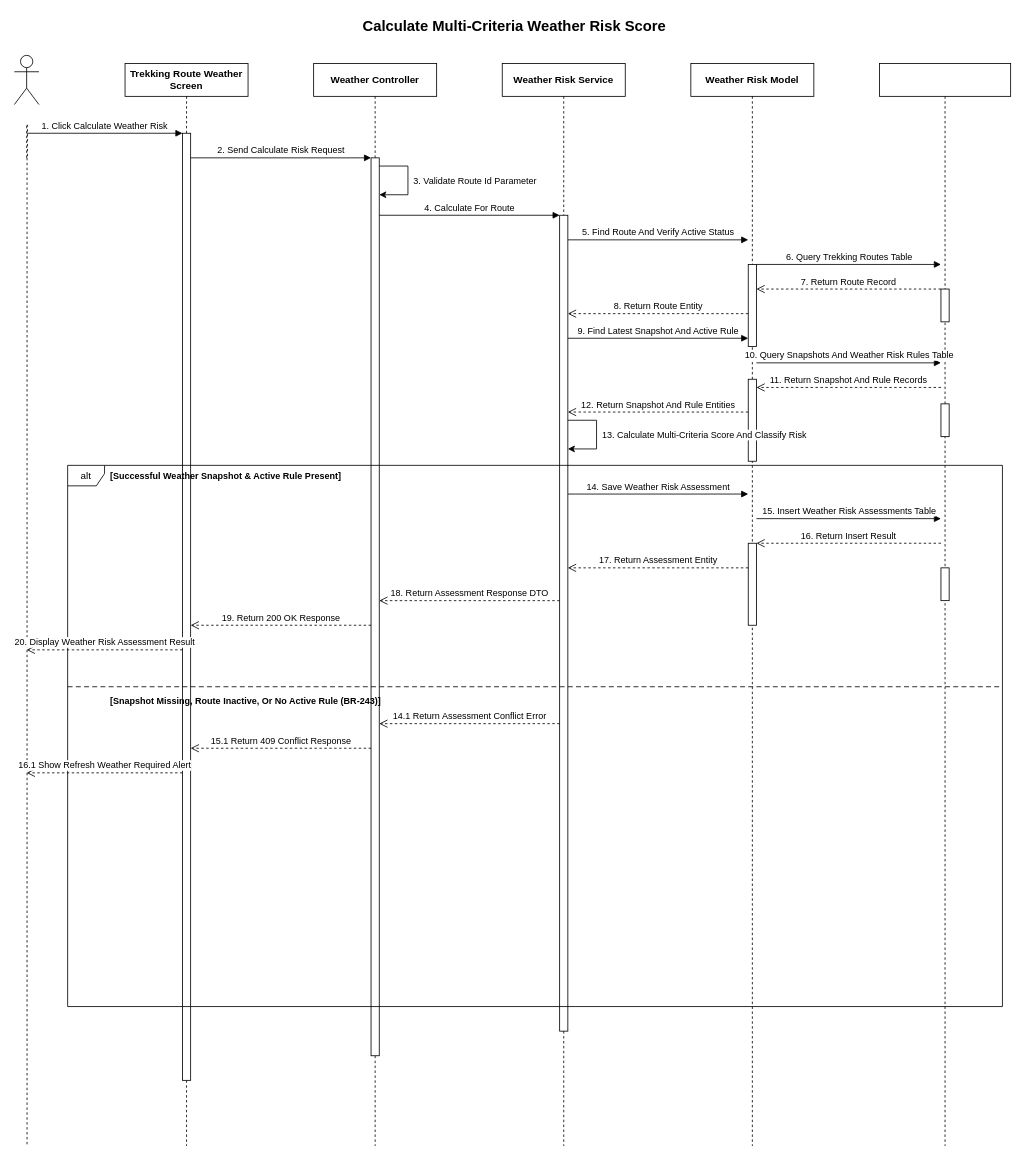
Image size: 1025x1160. Some labels were removed from this diagram. Each missing label, with the centre of its shape:
"Host" belongs at [26,80].
"PostgreSQL Database" belongs at [945,604].
